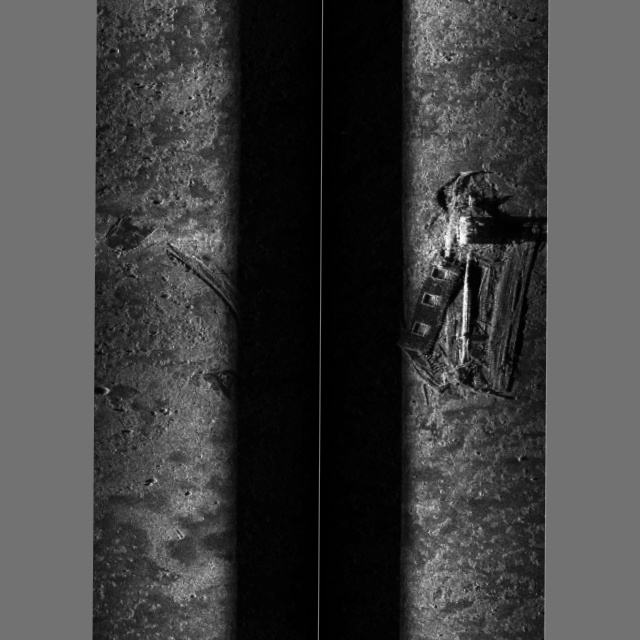Shipwreck: (103, 160, 539, 543)
